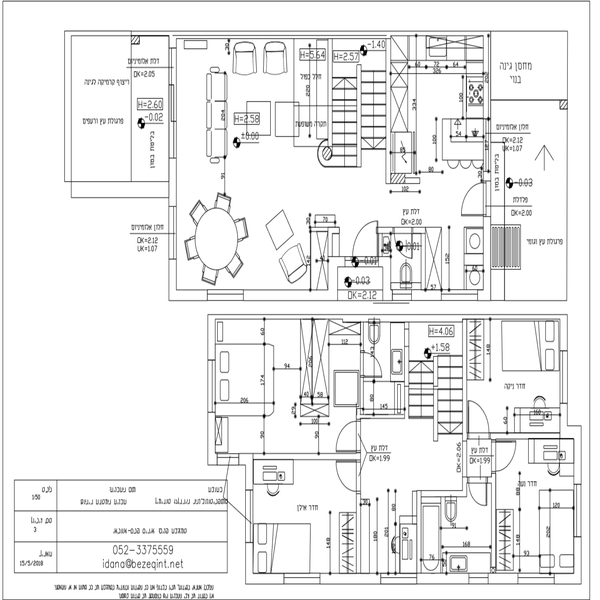door: (349, 222, 383, 263), (333, 414, 367, 454), (457, 180, 489, 214), (467, 474, 499, 508), (464, 400, 494, 436), (493, 437, 518, 478), (336, 457, 362, 496), (359, 350, 382, 380)
wall: (211, 313, 567, 324), (64, 29, 493, 38), (479, 34, 498, 177), (249, 288, 333, 303), (568, 421, 584, 482), (317, 572, 383, 585), (417, 573, 471, 587), (570, 541, 583, 584), (242, 544, 255, 583), (167, 158, 177, 207), (168, 259, 179, 302), (209, 408, 217, 467), (208, 311, 217, 359), (492, 572, 521, 586), (166, 33, 178, 51)
window: (163, 85, 181, 155), (202, 360, 227, 404), (521, 565, 551, 595), (381, 565, 415, 590), (208, 287, 243, 306), (286, 569, 318, 588)
